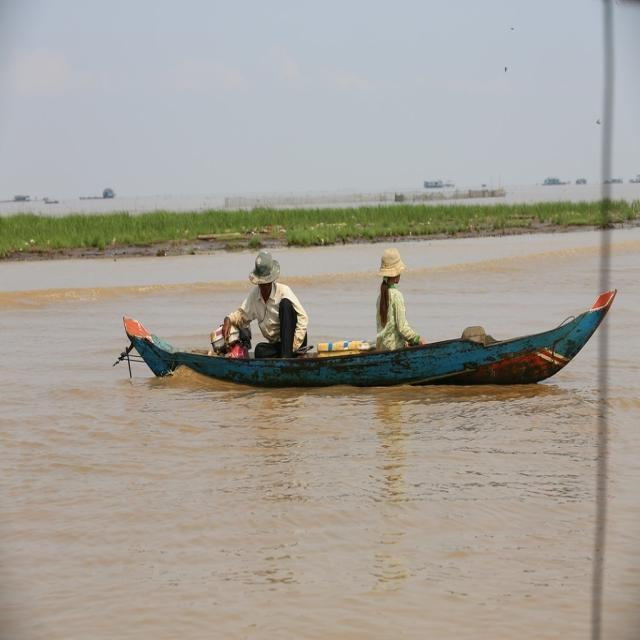boat: (117, 285, 620, 390)
